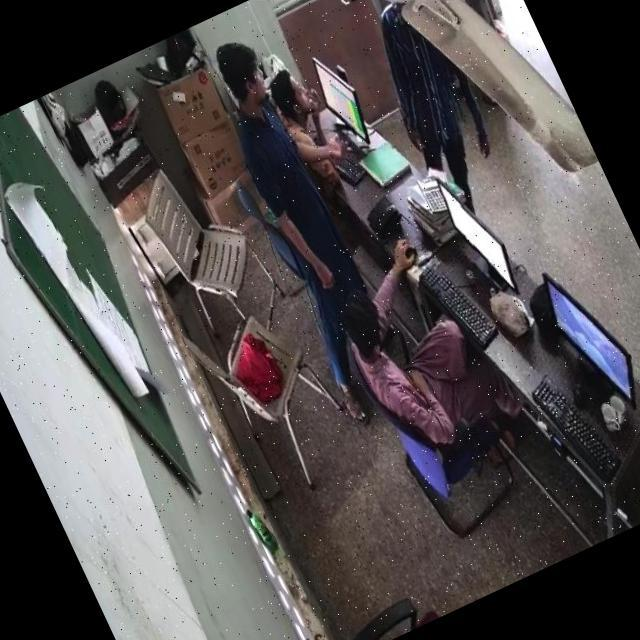person: (192, 50, 402, 408), (327, 268, 481, 453), (372, 0, 489, 184), (258, 55, 338, 173)
